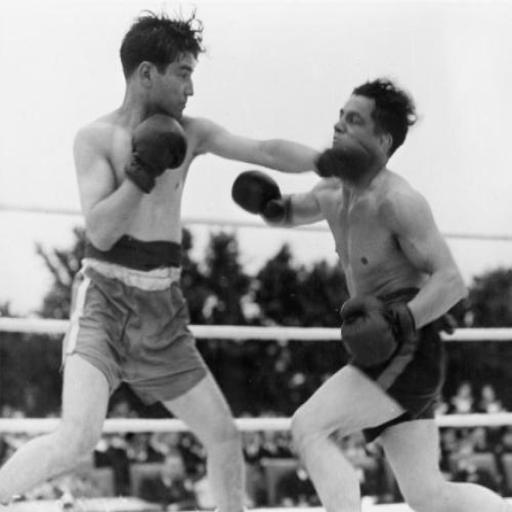boxing: (0, 7, 377, 511), (214, 63, 512, 512)
